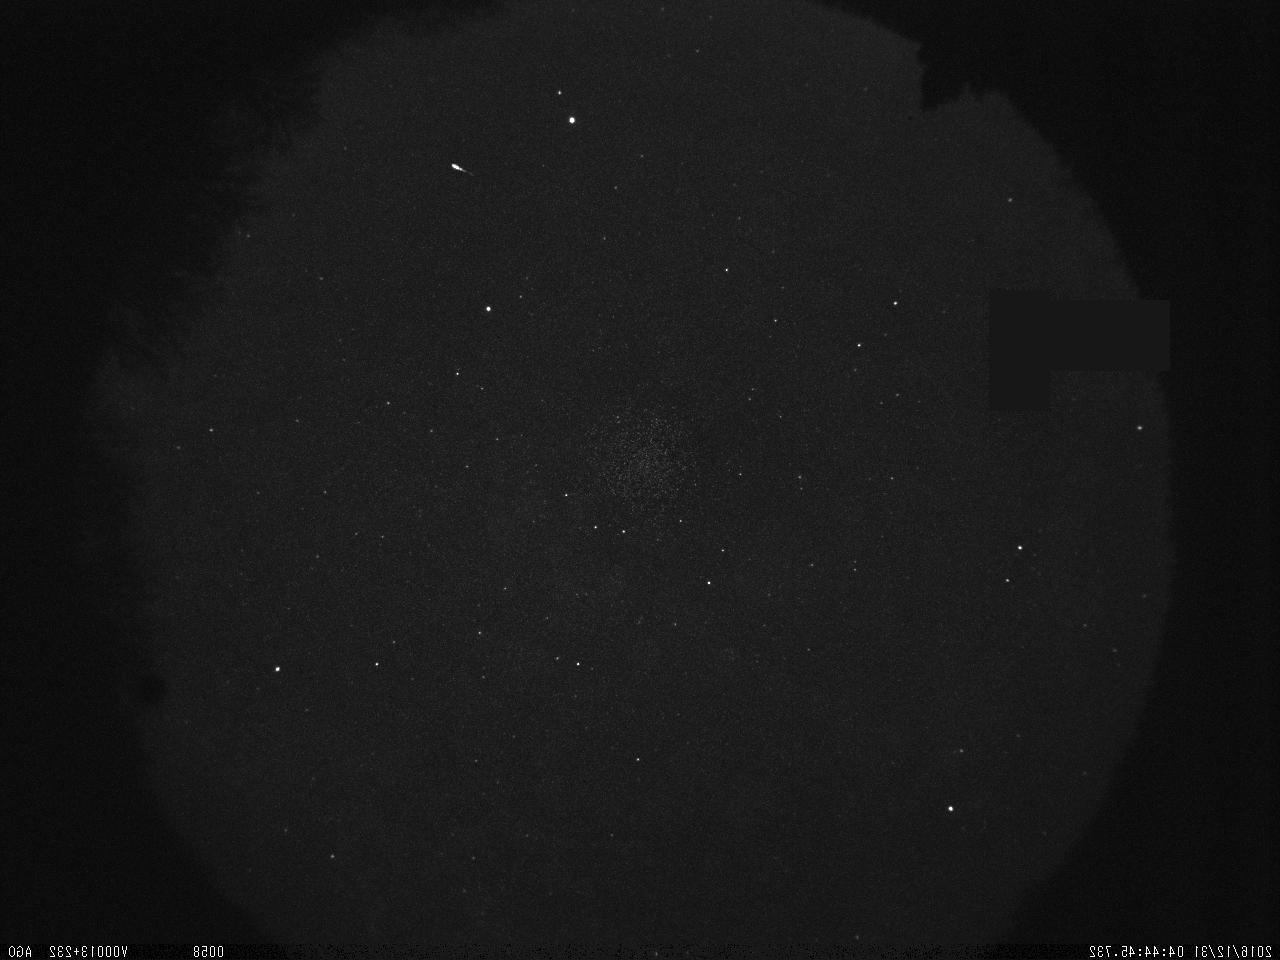meteor: (450, 161, 478, 183)
